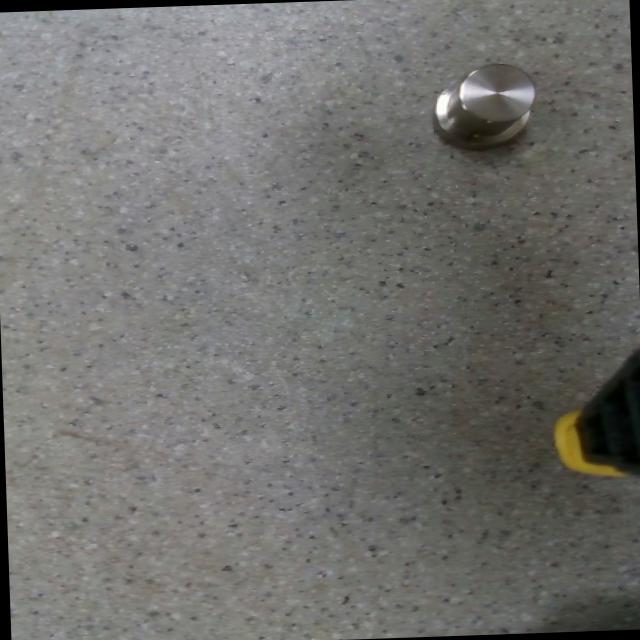sensor: (428, 60, 536, 150)
